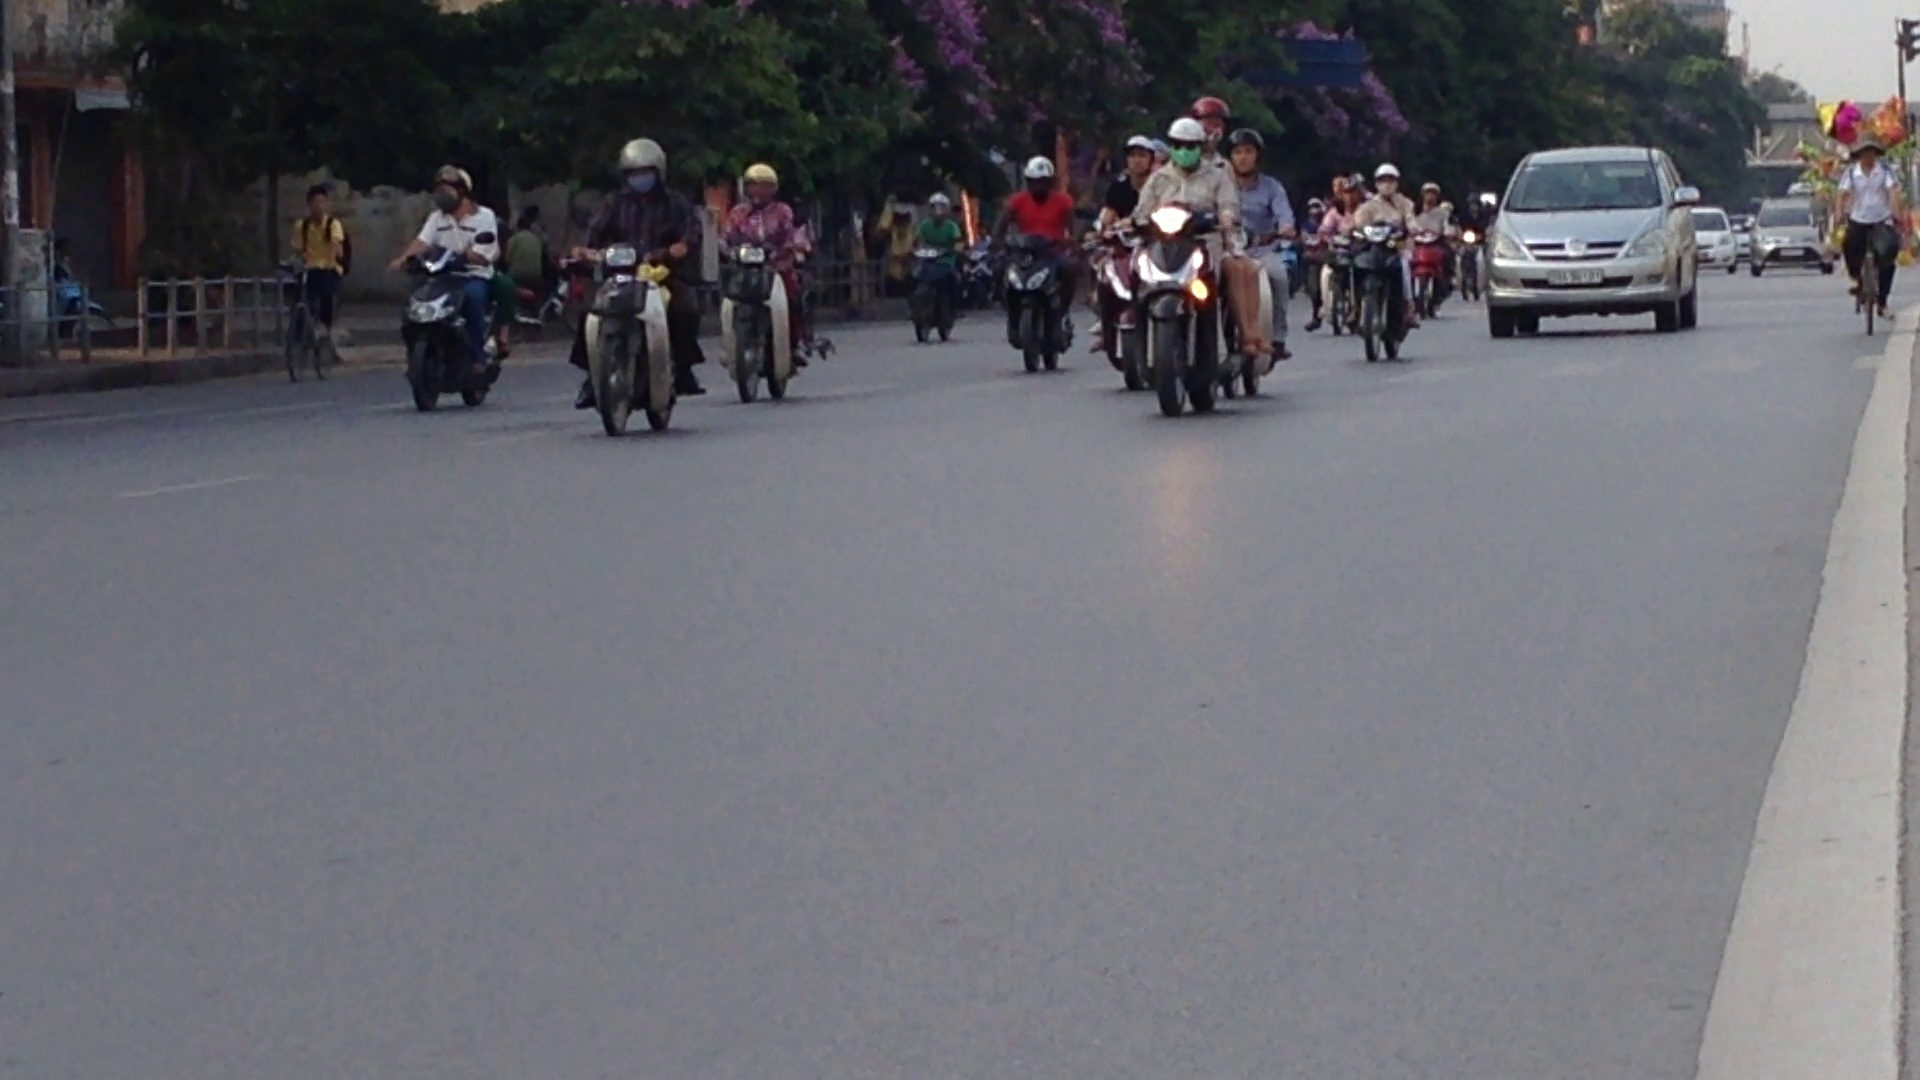vehicle-plate: (1542, 266, 1609, 287)
